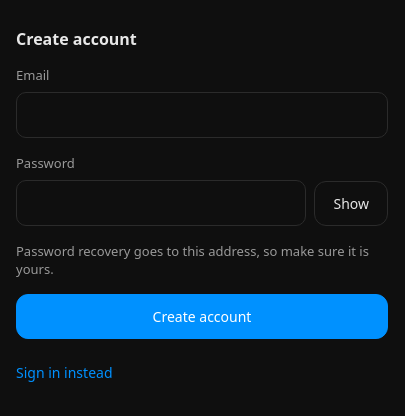
Test: CreateAccountScreen › says so when the address already has an account, and keeps it as typed
Type " Ana@Example.com " into the field labelled "Email" at (202, 115), box [16,92,388,138]
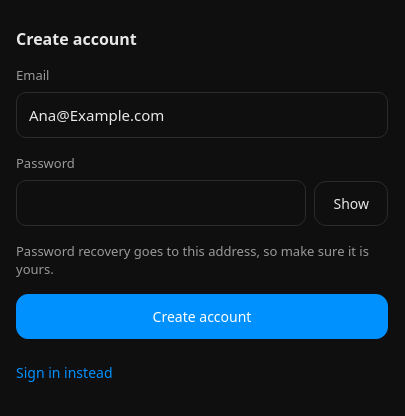
Type "a-long-enough-password" into the password field labelled "Password" at (161, 203), box [16,180,306,226]
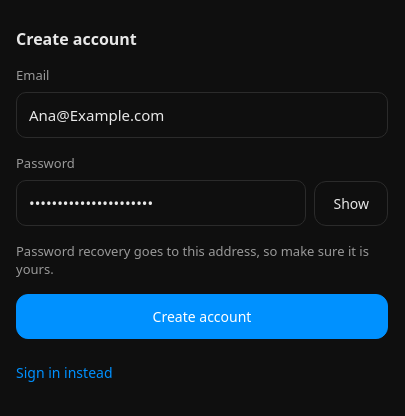
Click the button "Create account" at (202, 316), box [16,294,388,339]
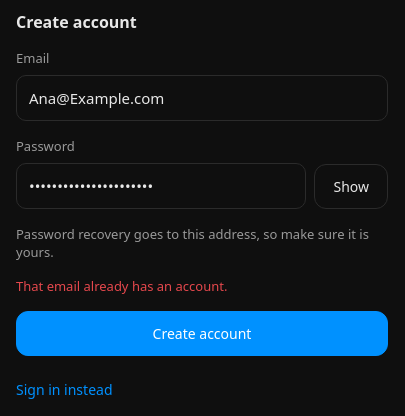
Result: the message reads "That email already has an account." at [16,277,227,295]
